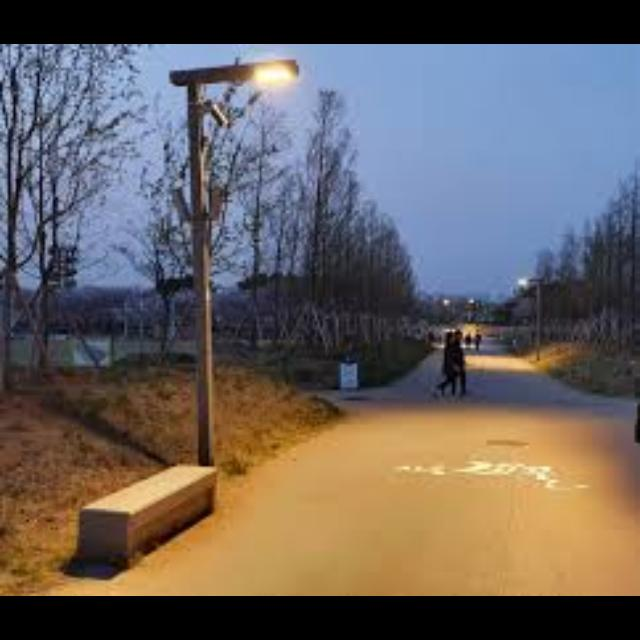Street-Lamp: (162, 56, 346, 468)
